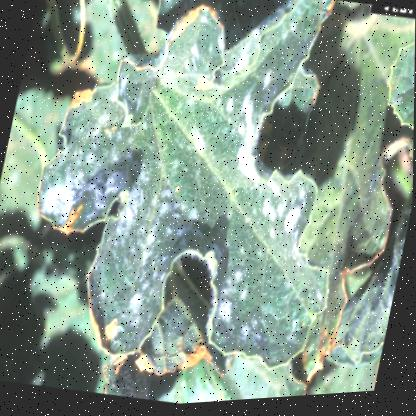PowderyMildew: (217, 195, 302, 334), (104, 170, 191, 297), (201, 70, 273, 194)
